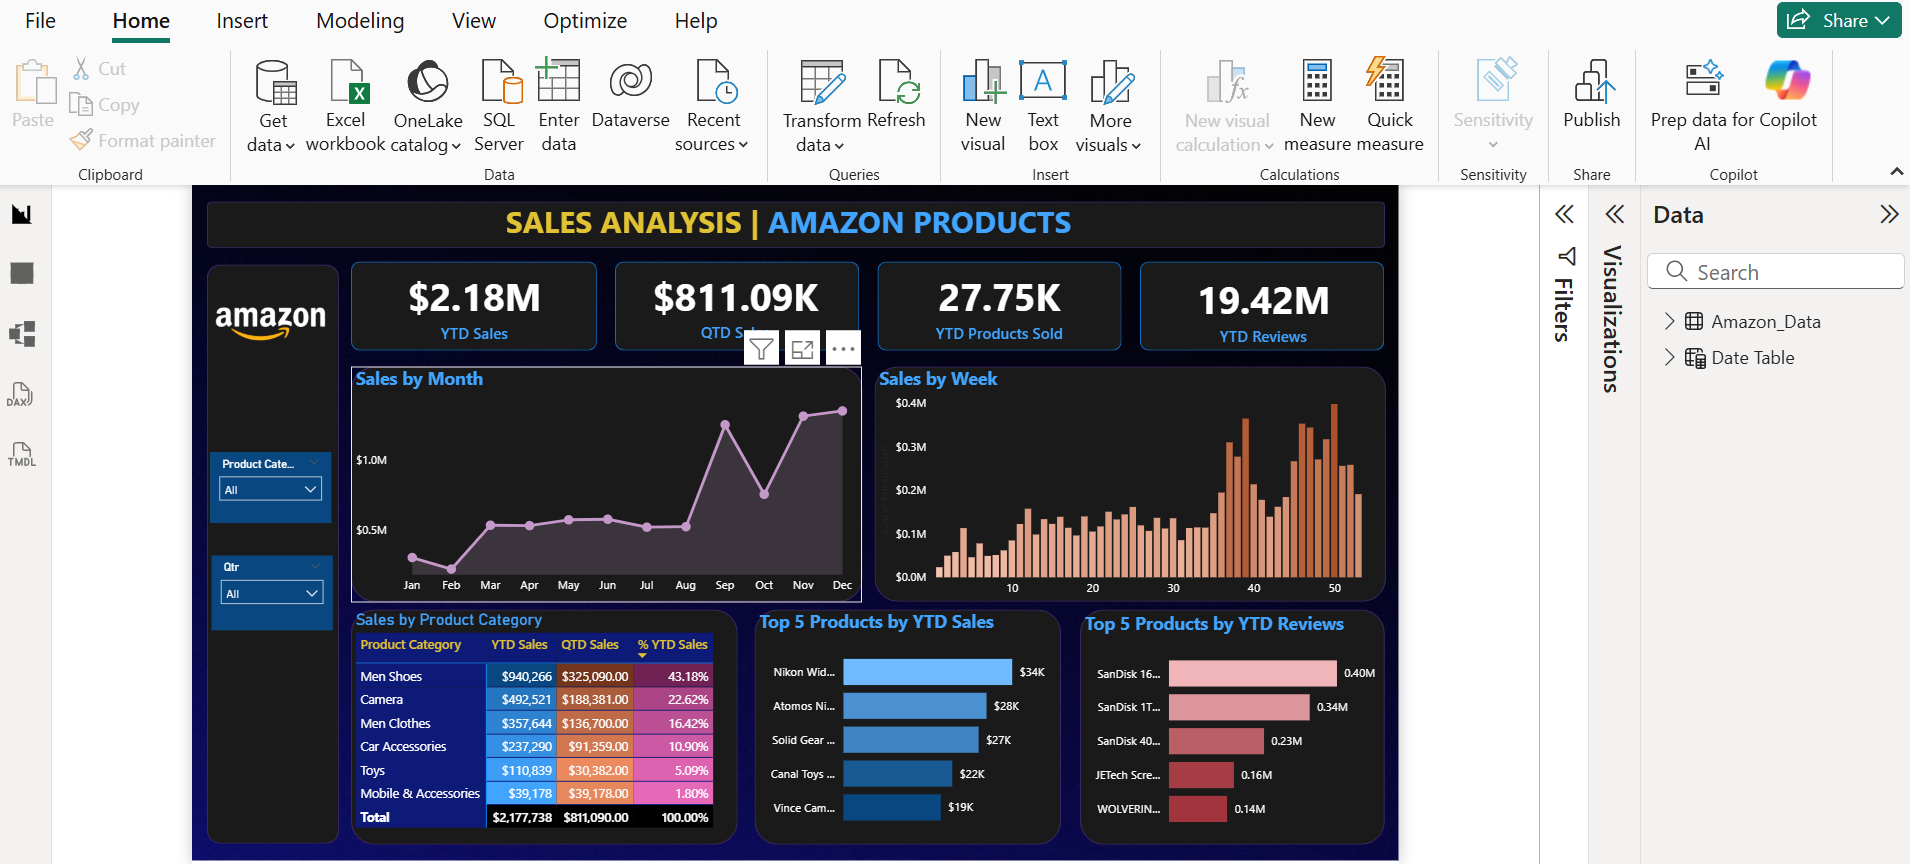

Layout of this report page (visuals, bound fields, positions):
{"tool":"powerbi","page":{"name":"Page 1","canvas":[1280,720],"ordinal":0},"visuals":[{"type":"shape","box":[15.1,17,1249.1,49.1],"z":0},{"type":"textbox","box":[326.9,11.3,627.4,60.5],"z":1000},{"type":"shape","box":[15.1,85,139.8,614.2],"z":2000},{"type":"shape","box":[168.2,81.3,260.8,94.5],"z":3000},{"type":"card","fields":{"Values":["Amazon_Data.YTD Sales"]},"box":[168.2,81.3,260.8,94.5],"z":4000},{"type":"shape","box":[448.5,81.3,258.9,94.5],"z":5000},{"type":"shape","box":[726.9,81.3,258.9,94.5],"z":6000},{"type":"shape","box":[1005.4,81.3,258.9,94.5],"z":7000},{"type":"card","fields":{"Values":["Amazon_Data.QTD Sales"]},"box":[446,85,260.8,86.9],"z":8000},{"type":"card","fields":{"Values":["Amazon_Data.YTD Products Sold"]},"box":[725.7,81.3,260.8,94.5],"z":9000},{"type":"card","fields":{"Values":["Amazon_Data.YTD Reviews"]},"box":[1005.4,81.3,260.8,100.2],"z":10000},{"type":"shape","box":[168.2,192.8,542.4,249.5],"z":11000},{"type":"areaChart","title":"Sales by Month","fields":{"Category":["Date Table.Month Name"],"Y":["Sum(Amazon_Data.Price(Dollar))"]},"box":[168.2,192.8,542.4,249.5],"z":12000},{"type":"shape","box":[723.8,192.8,542.4,249.5],"z":13000},{"type":"columnChart","title":"Sales by Week","fields":{"Y":["Sum(Amazon_Data.Price(Dollar))"],"Category":["Date Table.Week Number"]},"box":[723.8,192.8,542.4,253.2],"z":14000},{"type":"shape","box":[168.2,449.8,410.1,249.5],"z":15000},{"type":"shape","box":[597.2,449.8,325,249.5],"z":16000},{"type":"pivotTable","title":"Sales by Product Category","fields":{"Rows":["Amazon_Data.Product Category"],"Values":["Amazon_Data.YTD Sales1","Amazon_Data.QTD Sales","Amazon_Data.YTD Sales"]},"box":[168.2,449.8,410.1,249.5],"z":17000},{"type":"shape","box":[941.1,449.8,323.2,249.5],"z":18000},{"type":"clusteredBarChart","title":"Top 5 Products by YTD Sales","fields":{"Category":["Amazon_Data.Product Description"],"Y":["Amazon_Data.YTD Sales"]},"box":[597.2,449.8,325,243.8],"z":19000},{"type":"clusteredBarChart","title":"Top 5 Products by YTD Reviews","fields":{"Category":["Amazon_Data.Product Description"],"Y":["Amazon_Data.YTD Reviews"]},"box":[941.1,451.7,325,243.8],"z":20000},{"type":"slicer","fields":{"Values":["Amazon_Data.Product Category"]},"box":[18.9,283.5,128.5,75.6],"z":21000},{"type":"slicer","fields":{"Values":["Date Table.Qtr"]},"box":[20.8,393.1,128.5,79.4],"z":22000},{"type":"image","box":[15.1,85,134.2,126.6],"z":22001}]}

Visuals, with their boxes on the page's 1280x720 design canvas (x1, y1, x2, y2). These are canvas units, not pixel positions in the 1910x864 screenshot, which may show the page scaled, cropped or inside an application window:
shape: BBox(15, 17, 1264, 66)
textbox: BBox(327, 11, 954, 72)
shape: BBox(15, 85, 155, 699)
shape: BBox(168, 81, 429, 176)
card - Amazon_Data.YTD Sales: BBox(168, 81, 429, 176)
shape: BBox(448, 81, 707, 176)
shape: BBox(727, 81, 986, 176)
shape: BBox(1005, 81, 1264, 176)
card - Amazon_Data.QTD Sales: BBox(446, 85, 707, 172)
card - Amazon_Data.YTD Products Sold: BBox(726, 81, 986, 176)
card - Amazon_Data.YTD Reviews: BBox(1005, 81, 1266, 182)
shape: BBox(168, 193, 711, 442)
"Sales by Month" areaChart: BBox(168, 193, 711, 442)
shape: BBox(724, 193, 1266, 442)
"Sales by Week" columnChart: BBox(724, 193, 1266, 446)
shape: BBox(168, 450, 578, 699)
shape: BBox(597, 450, 922, 699)
"Sales by Product Category" pivotTable: BBox(168, 450, 578, 699)
shape: BBox(941, 450, 1264, 699)
"Top 5 Products by YTD Sales" clusteredBarChart: BBox(597, 450, 922, 694)
"Top 5 Products by YTD Reviews" clusteredBarChart: BBox(941, 452, 1266, 696)
slicer - Amazon_Data.Product Category: BBox(19, 284, 147, 359)
slicer - Date Table.Qtr: BBox(21, 393, 149, 472)
image: BBox(15, 85, 149, 212)
